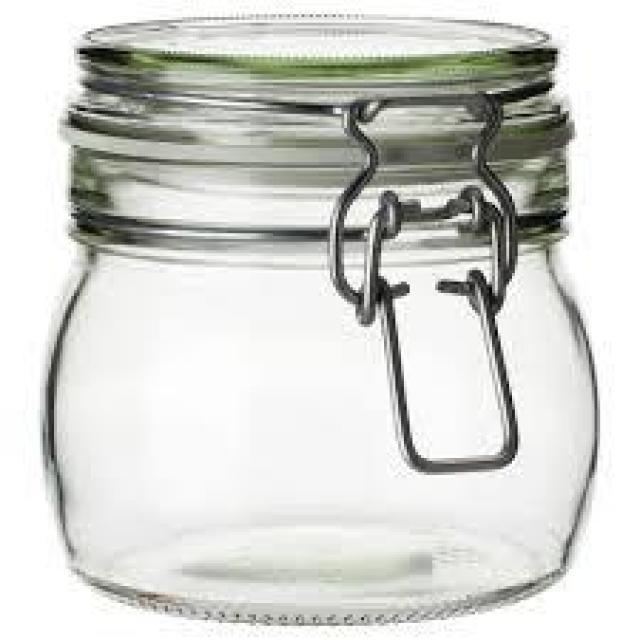Glass: (37, 11, 602, 629)
